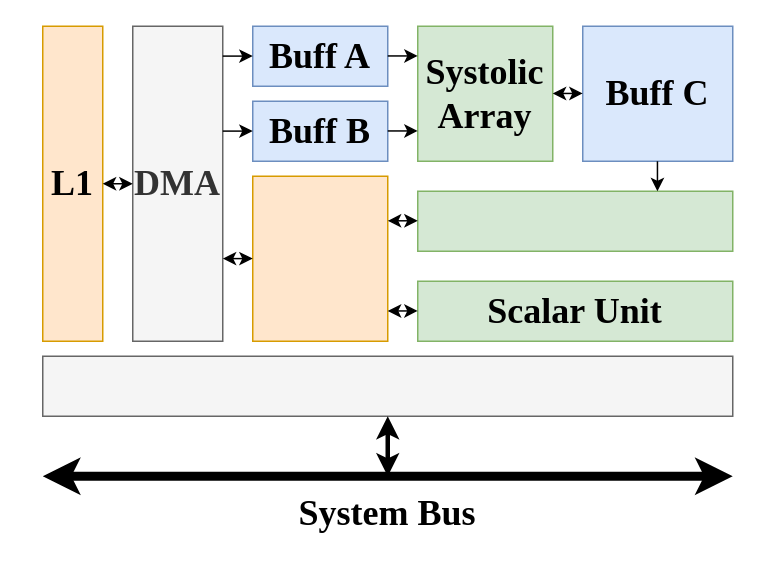
This 776x563 diagram has some shape labels left out. Each missing label, with the centre of its shape:
"Bus Interface & Control Logic" belongs at (x=387, y=385).
"Unified Buffer" belongs at (x=319, y=258).
"Vector Unit" belongs at (x=574, y=220).
